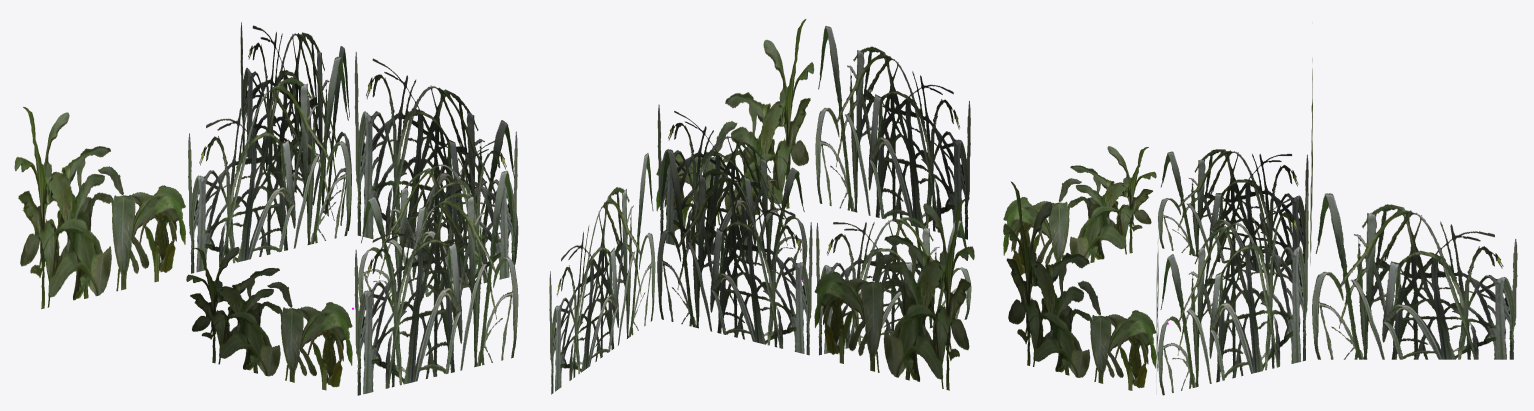
The model's file is mveg5.glb.
3 views of the same model, side by side, from view 1: azimuth 30°, elevation 25°; view 2: azimuth 150°, elevation 25°; view 3: azimuth 270°, elevation 25° (orthographic). The views are drawn at different scales.
Parts seen in each view (by area): view 1: 01 Mesh0; view 2: 01 Mesh0; view 3: 01 Mesh0.
Part boxes in pixels (x1,y1,x2,y2): 01 Mesh0: [14, 22, 518, 395]; 01 Mesh0: [549, 19, 974, 394]; 01 Mesh0: [1003, 58, 1517, 395].
Bounding box in the file's own units: 4.74 × 2.26 × 5.47.
2 materials, 1 textured.
